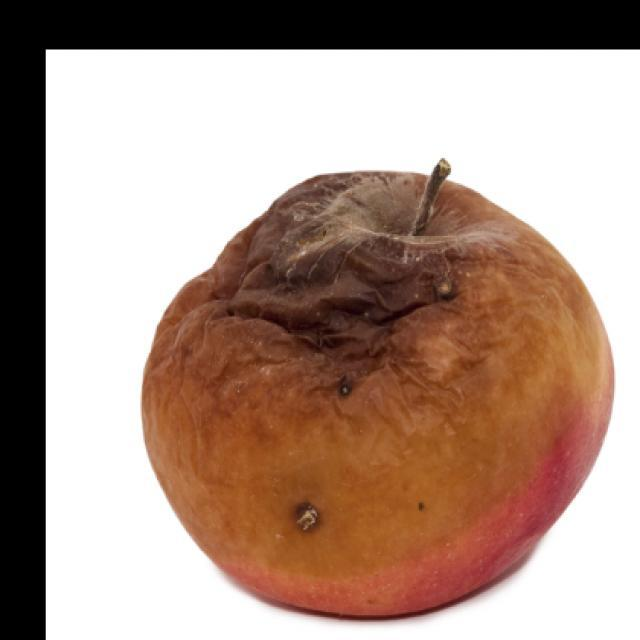Rotten: (140, 163, 618, 627)
